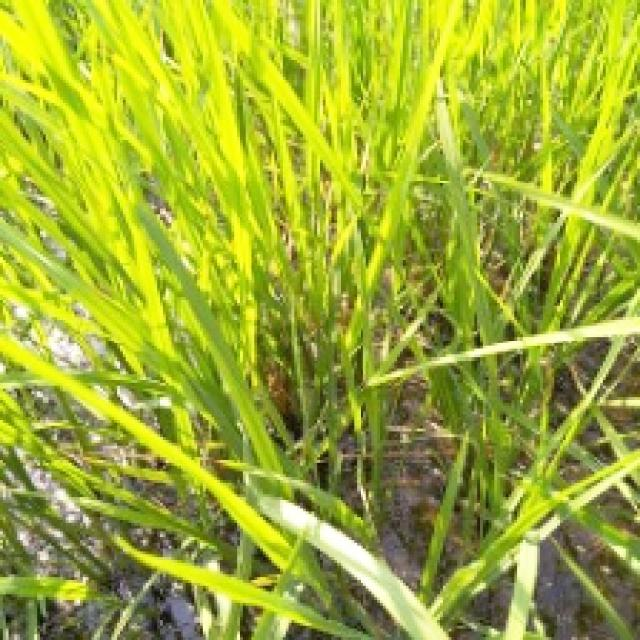health: (4, 7, 253, 464)
